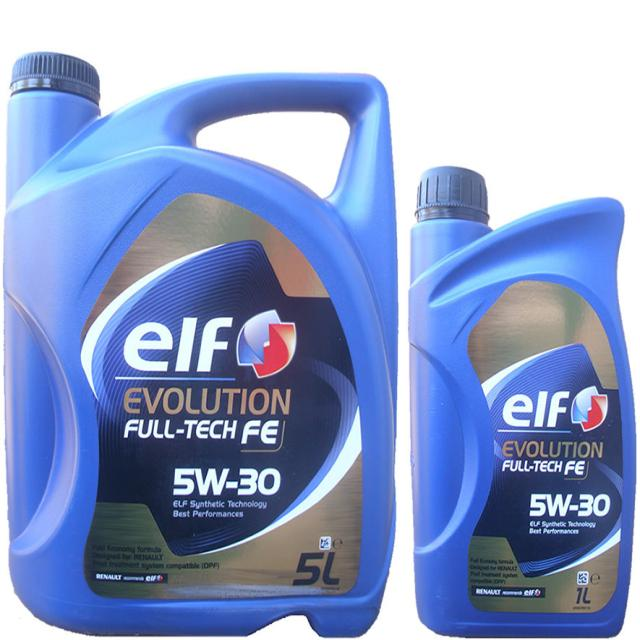motor_oil: (3, 50, 395, 630), (409, 164, 639, 640)
